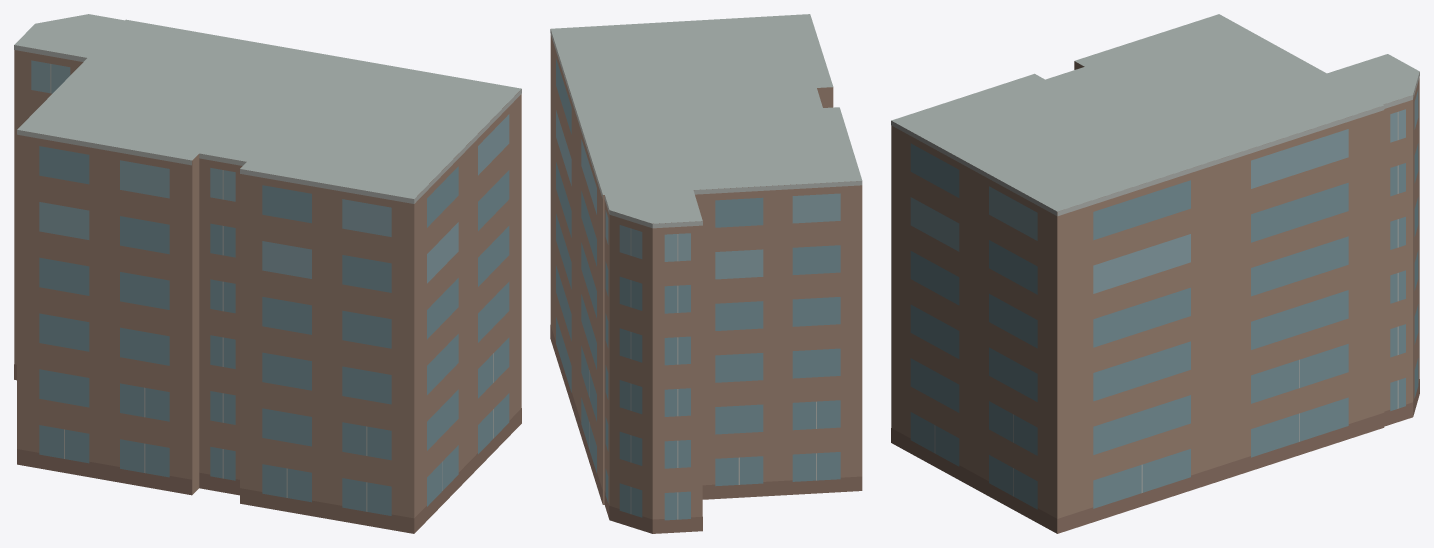
The model's file is survey-upis-32745082.glb.
3 renders of one model, left to right at view 1: azimuth 30°, elevation 25°; view 2: azimuth 150°, elevation 25°; view 3: azimuth 270°, elevation 25°, orthographic. The views are drawn at different scales.
Parts seen in each view (by area): view 1: survey-upis-32745082.tmp; view 2: survey-upis-32745082.tmp; view 3: survey-upis-32745082.tmp.
Boxes of the visible parts, x1,y1,x2,y2 form: survey-upis-32745082.tmp: (14, 14, 521, 533); survey-upis-32745082.tmp: (550, 14, 862, 533); survey-upis-32745082.tmp: (891, 14, 1419, 533).
Bounding box in the file's own units: 21.84 × 16.6 × 24.69.
